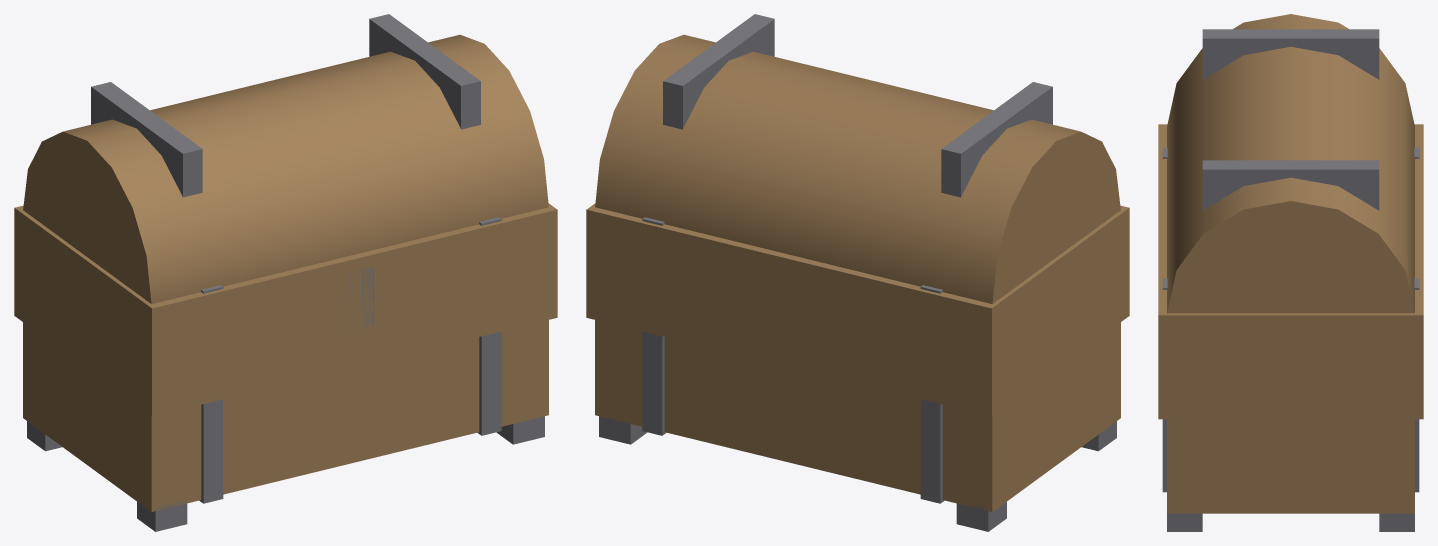
Rendered from chest.glb.
The picture shows the model from 3 angles, left to right: view 1: azimuth 30°, elevation 25°; view 2: azimuth 150°, elevation 25°; view 3: azimuth 270°, elevation 25°; orthographic projection. The views are drawn at different scales.
Parts seen in each view (by area): view 1: lid, lid_cut, body, band_lid0.35, band_lid-0.35, band0.35, band-0.35, foot-1-1, foot1-1, lock; view 2: lid, lid_cut, body, band_lid0.35, band_lid-0.35, band0.35, band-0.35, foot-11, foot11; view 3: lid, lid_cut, body, band_lid-0.35, band_lid0.35, band0.35, foot1-1, foot11.
Boxes of the visible parts, bbox=[...] form: lid: bbox=[23, 34, 548, 374]; lid_cut: bbox=[14, 203, 557, 416]; body: bbox=[23, 320, 548, 511]; band_lid0.35: bbox=[369, 14, 480, 129]; band_lid-0.35: bbox=[91, 82, 202, 197]; band0.35: bbox=[477, 217, 501, 435]; band-0.35: bbox=[199, 285, 223, 503]; foot-1-1: bbox=[137, 500, 187, 531]; foot1-1: bbox=[496, 416, 544, 444]; lock: bbox=[336, 267, 374, 329]; lid: bbox=[595, 34, 1120, 303]; lid_cut: bbox=[586, 203, 1129, 416]; body: bbox=[595, 320, 1120, 511]; band_lid0.35: bbox=[663, 14, 774, 129]; band_lid-0.35: bbox=[941, 82, 1052, 197]; band0.35: bbox=[642, 217, 666, 435]; band-0.35: bbox=[920, 285, 944, 503]; foot-11: bbox=[956, 502, 1006, 531]; foot11: bbox=[599, 416, 647, 444]; lid: bbox=[1167, 14, 1414, 424]; lid_cut: bbox=[1158, 124, 1423, 419]; body: bbox=[1167, 419, 1414, 513]; band_lid-0.35: bbox=[1202, 29, 1379, 79]; band_lid0.35: bbox=[1202, 160, 1379, 210]; band0.35: bbox=[1162, 278, 1419, 492]; foot1-1: bbox=[1167, 513, 1202, 531]; foot11: bbox=[1379, 513, 1414, 531].
Bounding box in the file's own units: 1.02 × 0.85 × 0.6.
